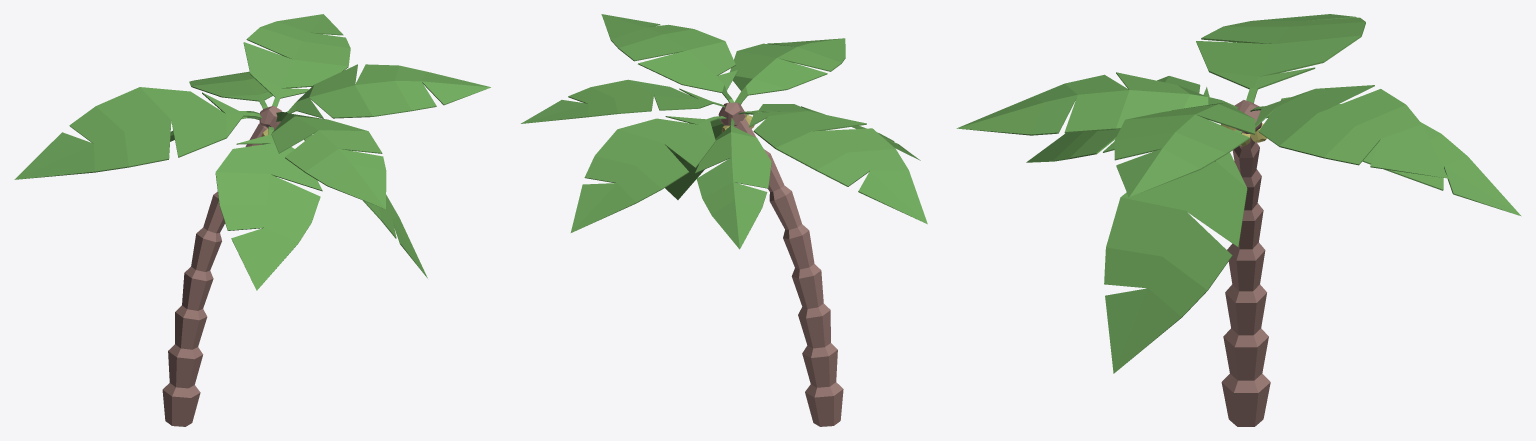
File: PalmTreeThin.fbx
3 views of the same model, side by side, from view 1: azimuth 30°, elevation 25°; view 2: azimuth 150°, elevation 25°; view 3: azimuth 270°, elevation 25° (orthographic). The views are drawn at different scales.
Parts seen in each view (by area): view 1: PalnTreeThin; view 2: PalnTreeThin; view 3: PalnTreeThin.
Part boxes in pixels (x1,y1,x2,y2): PalnTreeThin: (14,14,490,426); PalnTreeThin: (521,14,927,426); PalnTreeThin: (956,14,1521,426).
Size of the model in its own units: 703 by 532 by 669.
